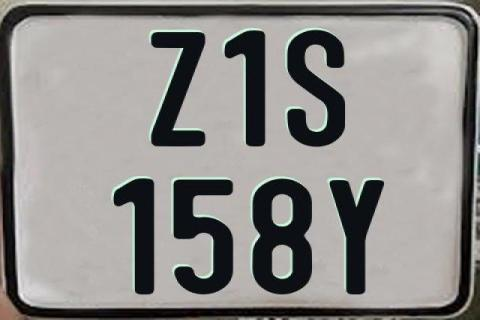0: (250, 177, 315, 297), (170, 178, 232, 298), (221, 29, 268, 149), (111, 177, 157, 293)
S: (287, 28, 351, 150)
Y: (328, 178, 387, 294)
Z: (152, 32, 212, 147)
